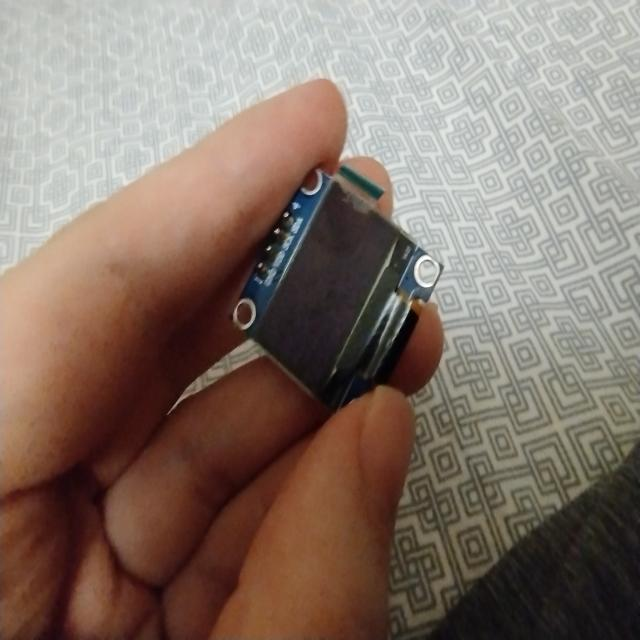oled: (228, 151, 445, 432)
